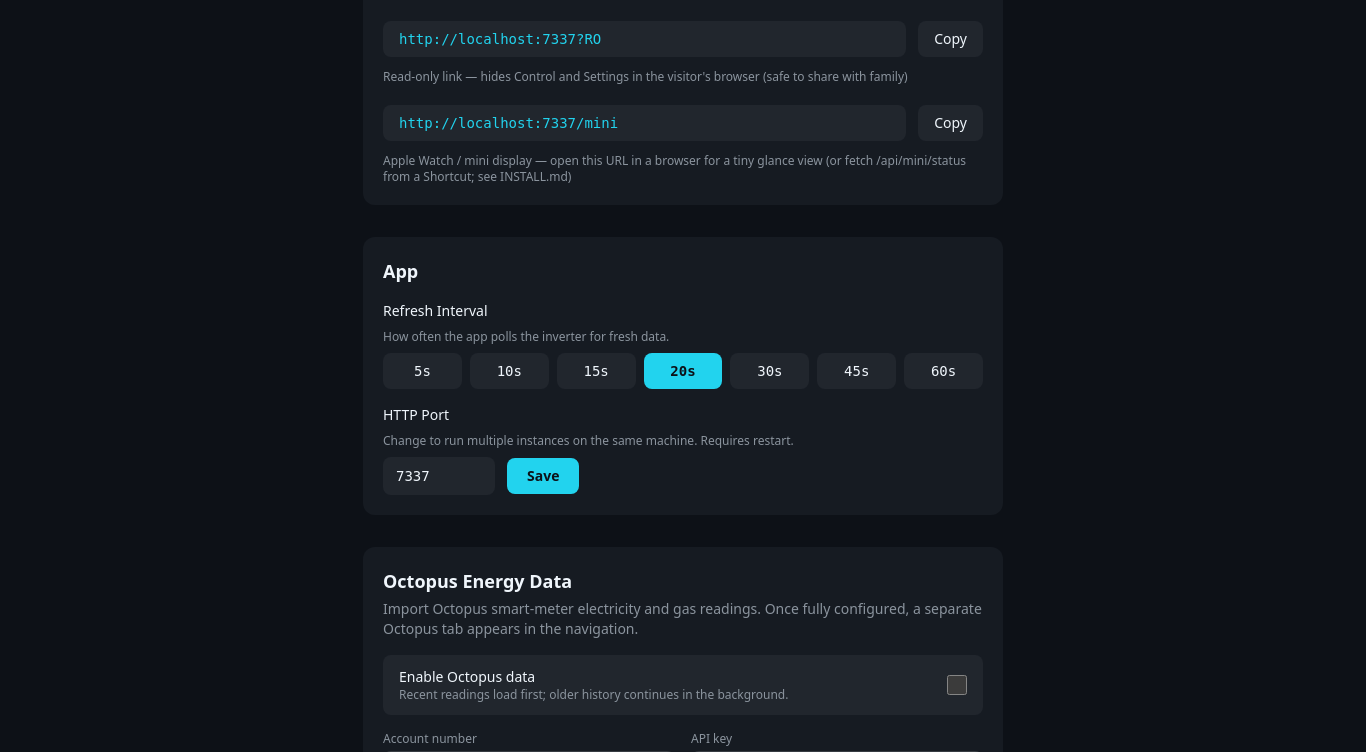
Scenario: <SettingsPage/> — save handlers & validation › refresh interval change › does not let an older flash clear a newer message
The width and height of the screenshot is (1366, 752).
(page scrolled)
Click the button "15s". click: (596, 371)
box: [557, 353, 636, 389]
Wait 1000 ms
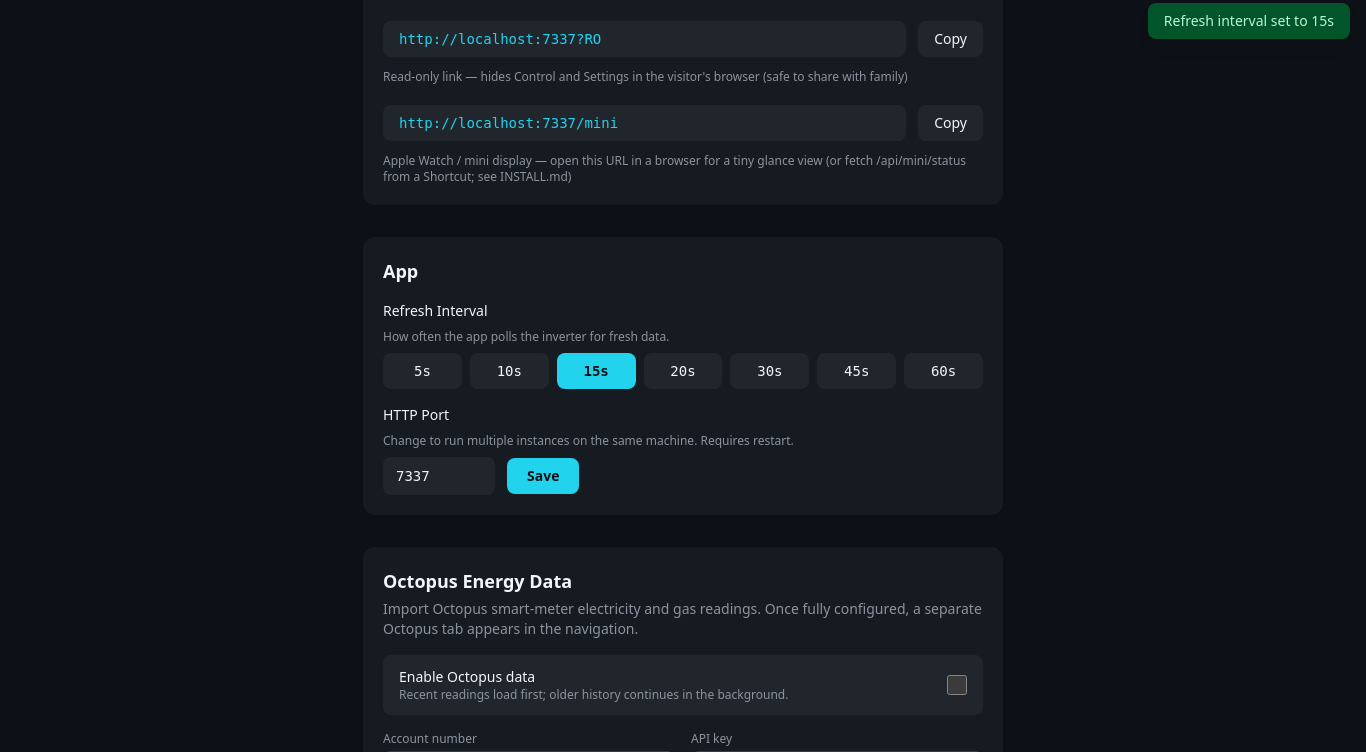
Result: the text "Refresh interval set to 15s" is shown at [1148, 3, 1350, 39]
Click the button "30s". click: (770, 371)
box: [730, 353, 809, 389]
Wait 3000 ms
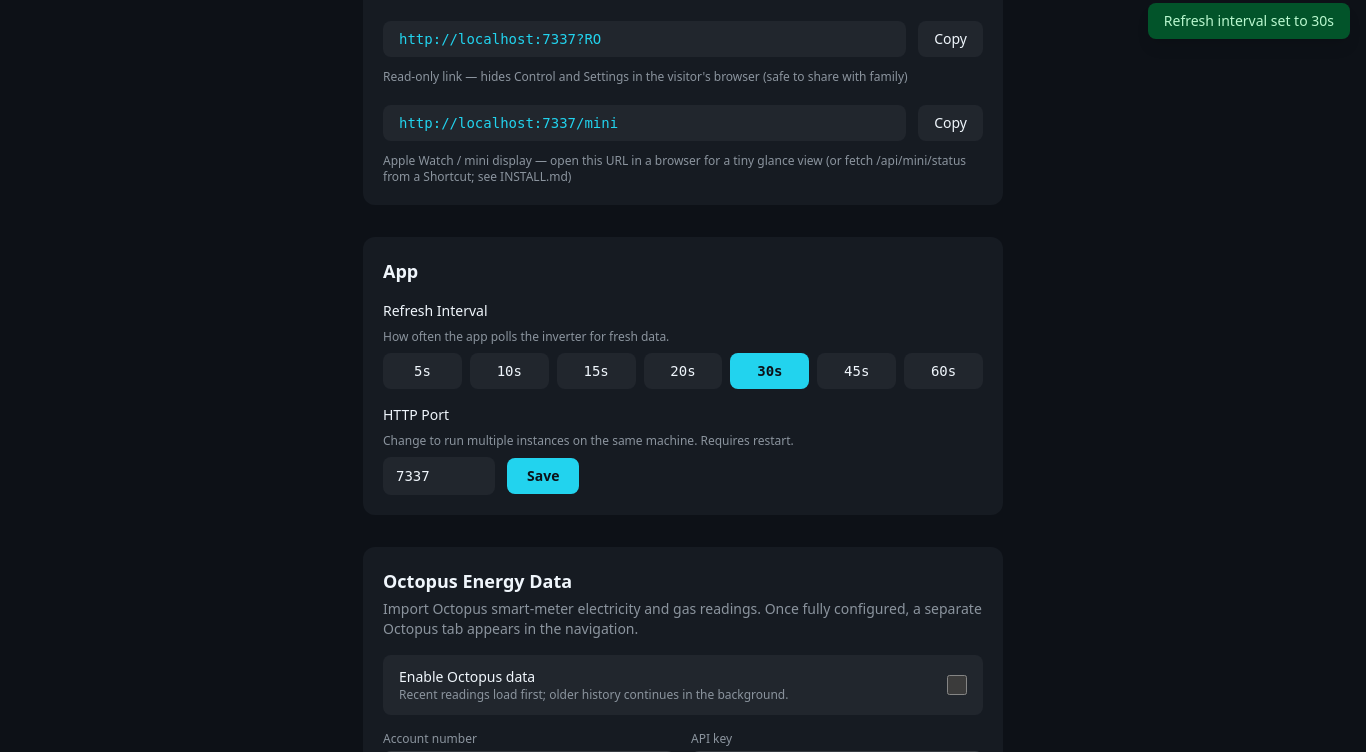
Result: the text "Refresh interval set to 30s" is shown at [1148, 3, 1350, 39]
